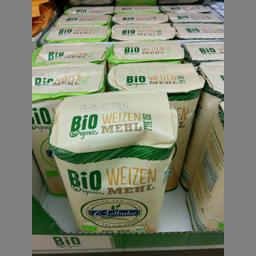flour: (48, 89, 175, 232)
